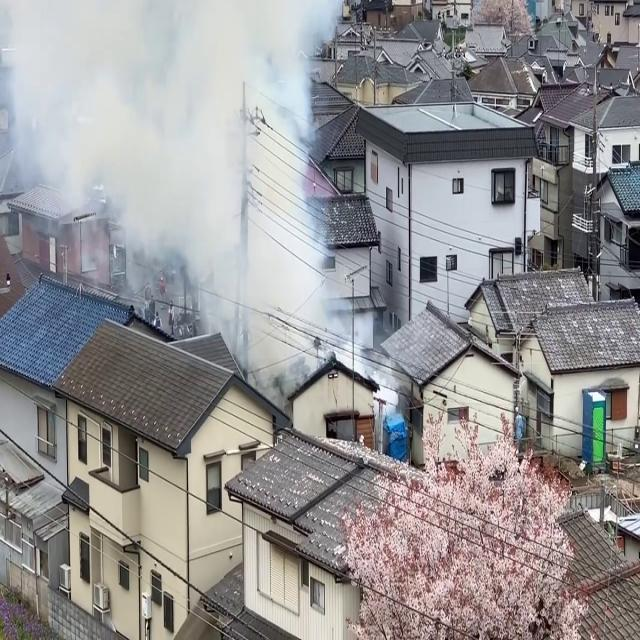Smoke: (10, 0, 348, 378)
